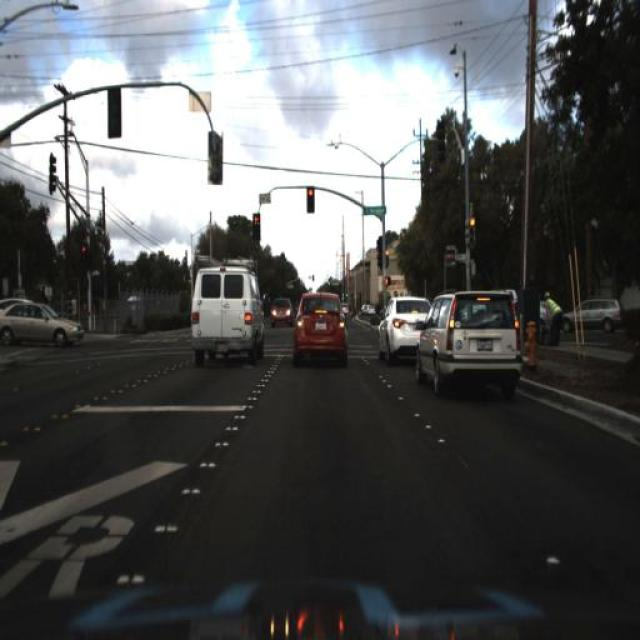car: (412, 277, 528, 398), (182, 261, 278, 375), (284, 280, 347, 371), (0, 292, 79, 358), (0, 298, 86, 352), (378, 294, 430, 365), (377, 293, 422, 369), (566, 292, 620, 336), (267, 290, 292, 330), (270, 296, 291, 324)
trafficLight: (540, 285, 560, 343), (544, 284, 562, 348)
trafficLight-Green: (253, 210, 262, 236)
trafficLight-RedLeft: (464, 214, 480, 252), (467, 214, 481, 240), (78, 239, 88, 273), (306, 185, 315, 217), (382, 243, 393, 269), (380, 244, 391, 268)
trafficLight-Yellow: (76, 237, 90, 273)
